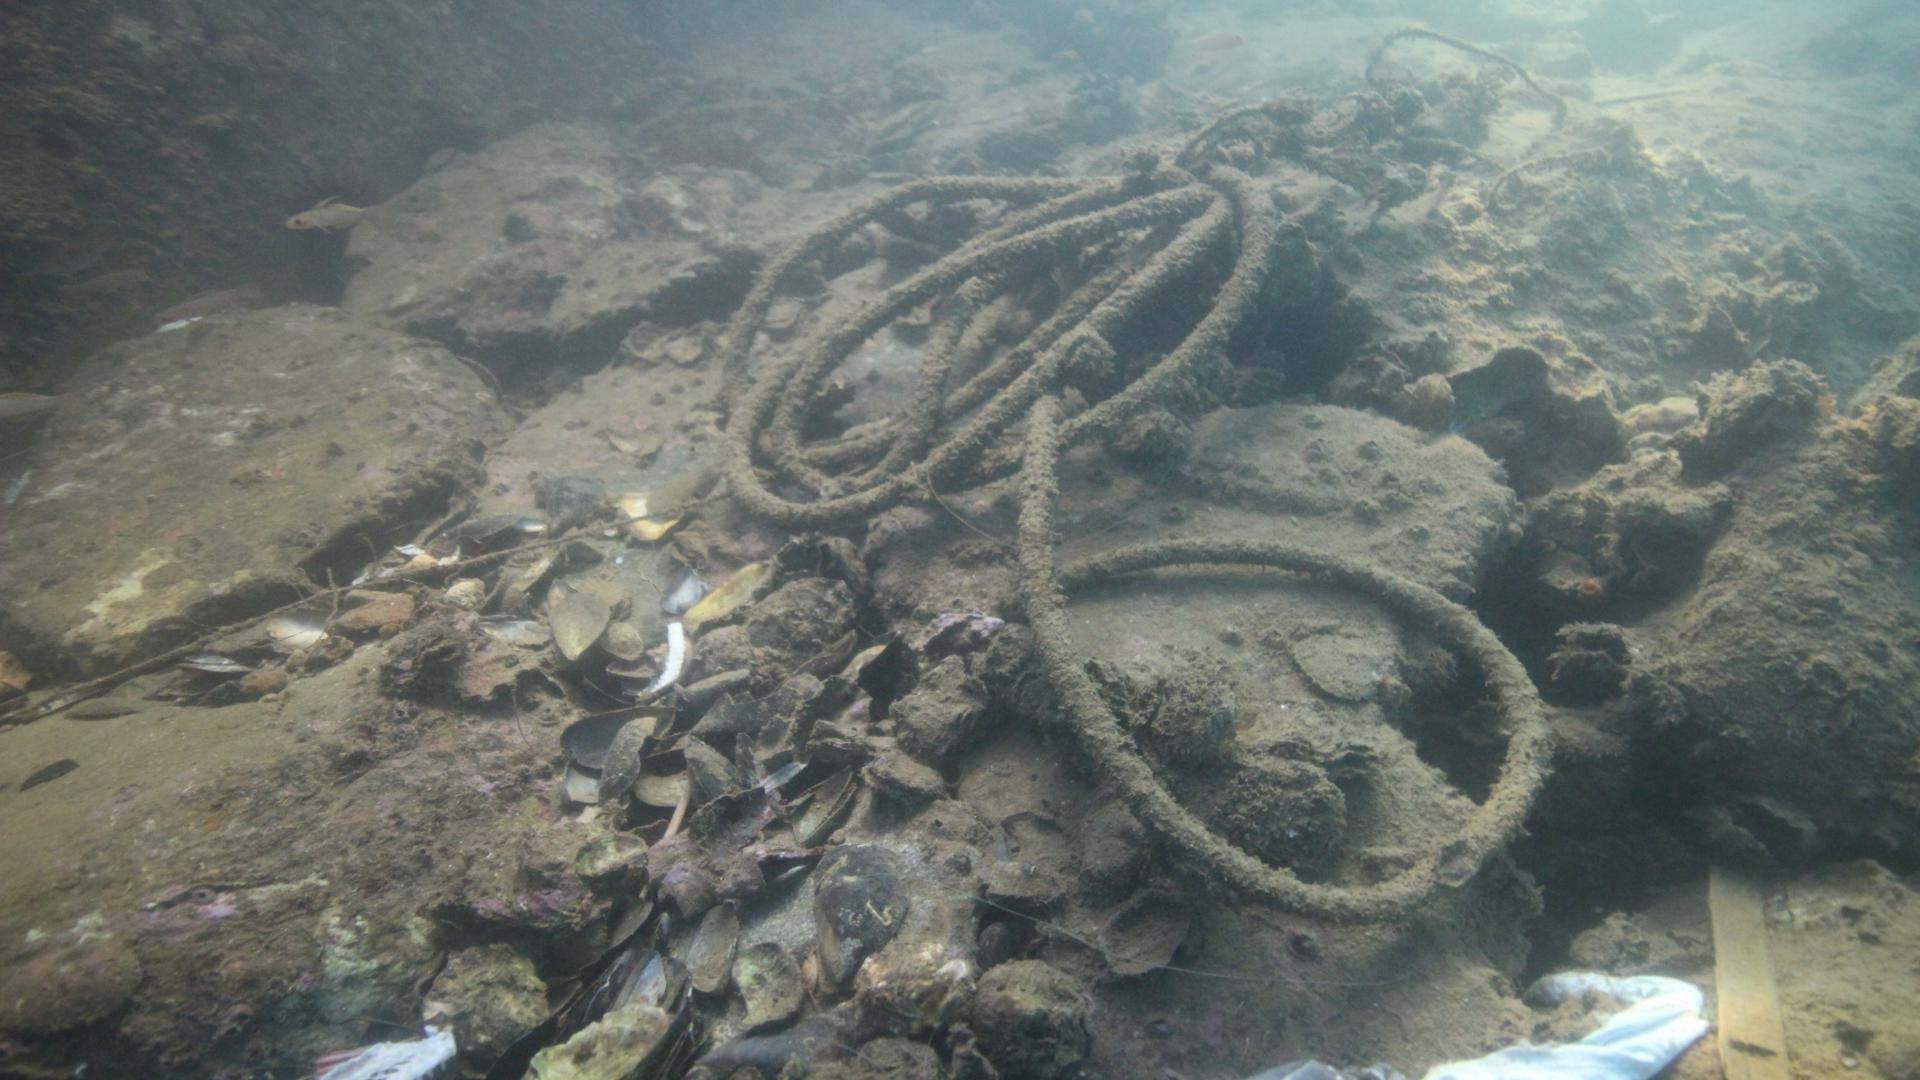bundle of ropes: (717, 25, 1560, 920)
